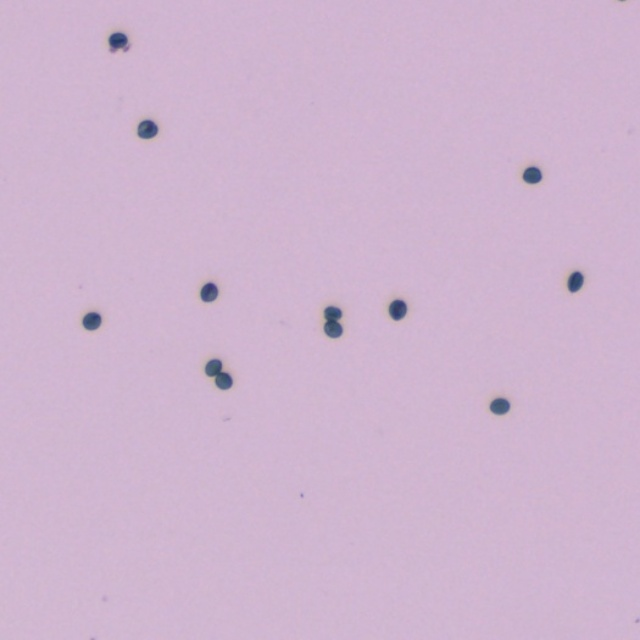non_viable: (138, 119, 157, 138), (205, 359, 226, 376), (108, 32, 127, 50), (389, 300, 406, 319), (200, 283, 217, 301), (567, 272, 583, 291), (490, 397, 509, 413), (323, 305, 342, 321), (83, 312, 100, 329), (523, 167, 541, 183), (325, 317, 340, 335), (216, 373, 230, 386)
